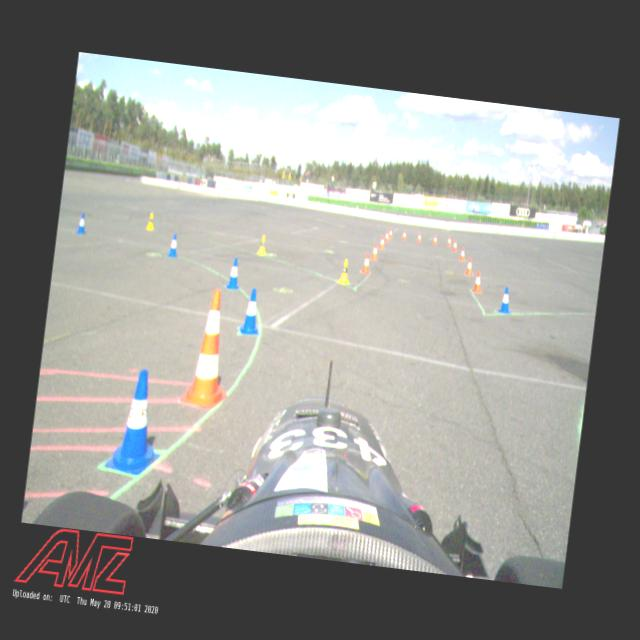blue_cone: (100, 362, 170, 481), (238, 286, 263, 334), (224, 256, 242, 290), (496, 286, 514, 314), (74, 210, 88, 234), (166, 232, 180, 256)
large_orange_cone: (181, 284, 236, 410)
orange_cone: (470, 272, 482, 294), (360, 252, 372, 274), (464, 255, 474, 278), (370, 242, 379, 260), (378, 234, 386, 251), (458, 246, 466, 262), (452, 238, 458, 254), (416, 232, 423, 244), (432, 233, 438, 246), (446, 235, 452, 248), (384, 229, 389, 243), (401, 228, 406, 241), (388, 227, 392, 240)
yellow_cone: (337, 258, 351, 284), (256, 233, 268, 254), (144, 212, 156, 229)
